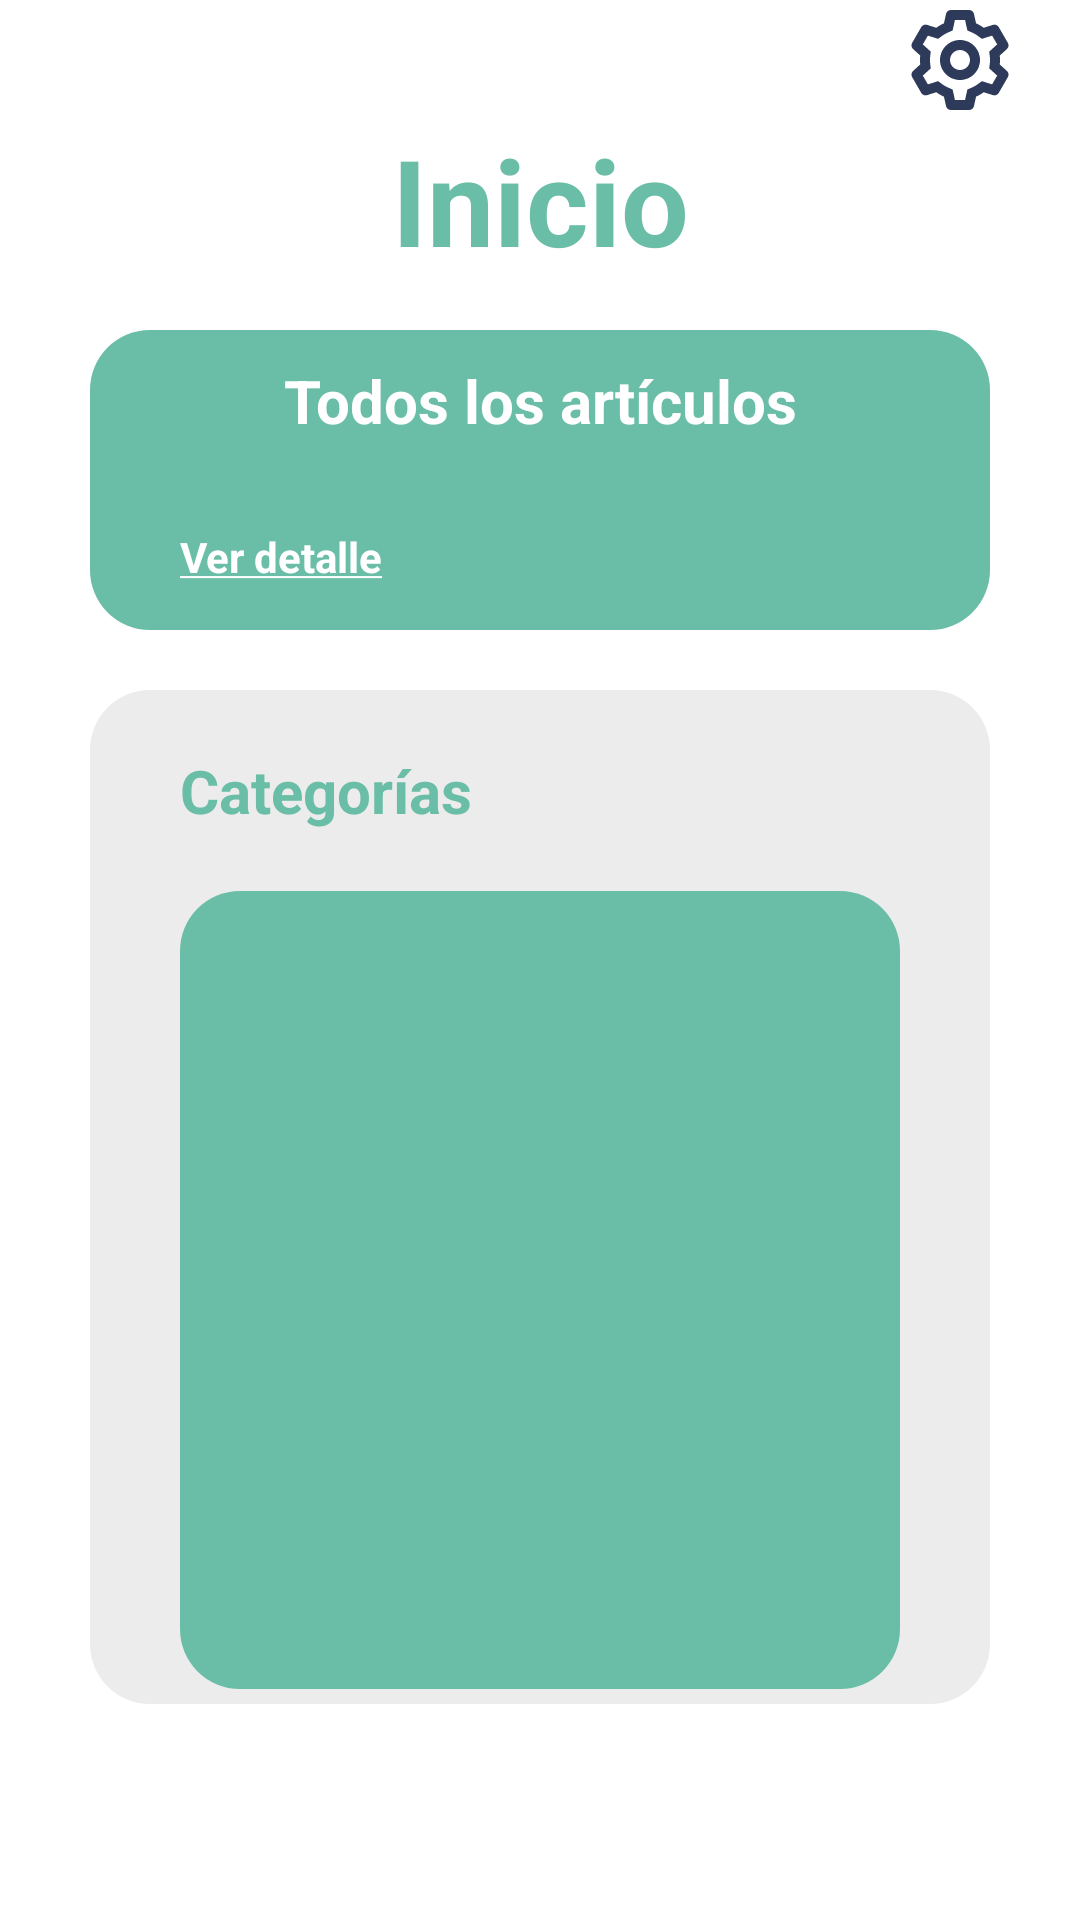

Point at icon controls on the screen. Image size 1080*1920, points as (x,y).
settings: (960,60)
